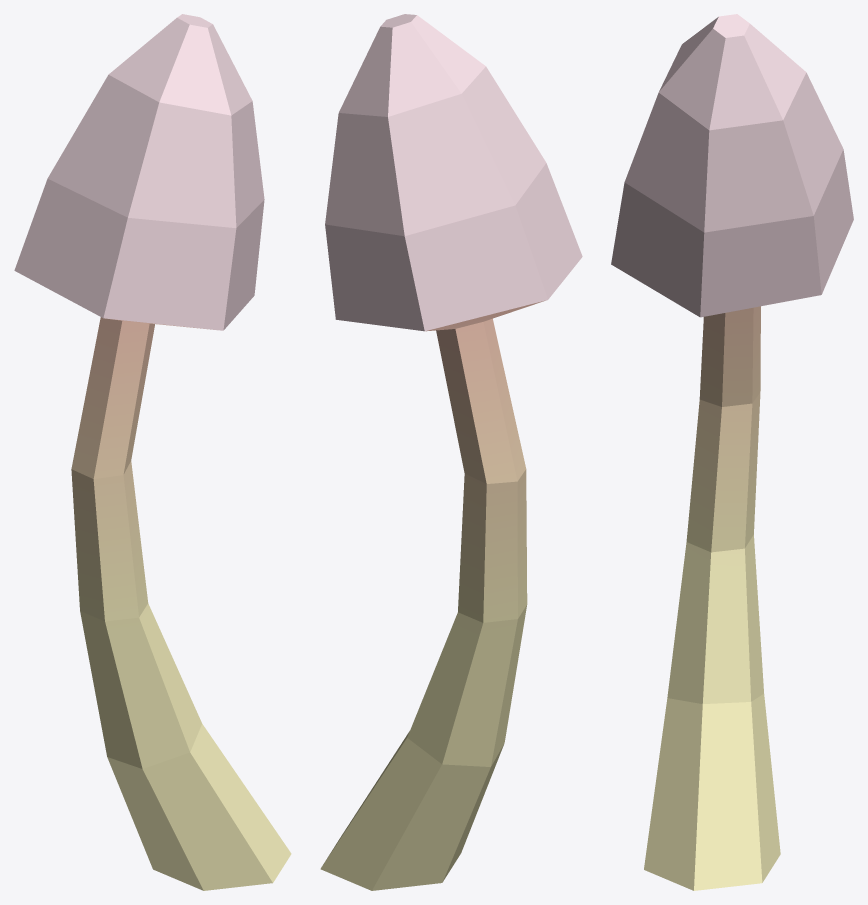
File: mushroom_011.fbx
The picture shows the model from 3 angles, left to right: view 1: azimuth 30°, elevation 25°; view 2: azimuth 150°, elevation 25°; view 3: azimuth 270°, elevation 25°; orthographic projection. The views are drawn at different scales.
Visible parts, largest first — view 1: mushroom.011; view 2: mushroom.011; view 3: mushroom.011.
Part boxes in pixels (box(x1,y1,x2,y2)): mushroom.011: box(14, 14, 291, 890); mushroom.011: box(320, 14, 582, 890); mushroom.011: box(611, 14, 853, 890).
Bounding box in the file's own units: 502 × 1673 × 443.
Materials: 1 (1 with a texture image).
